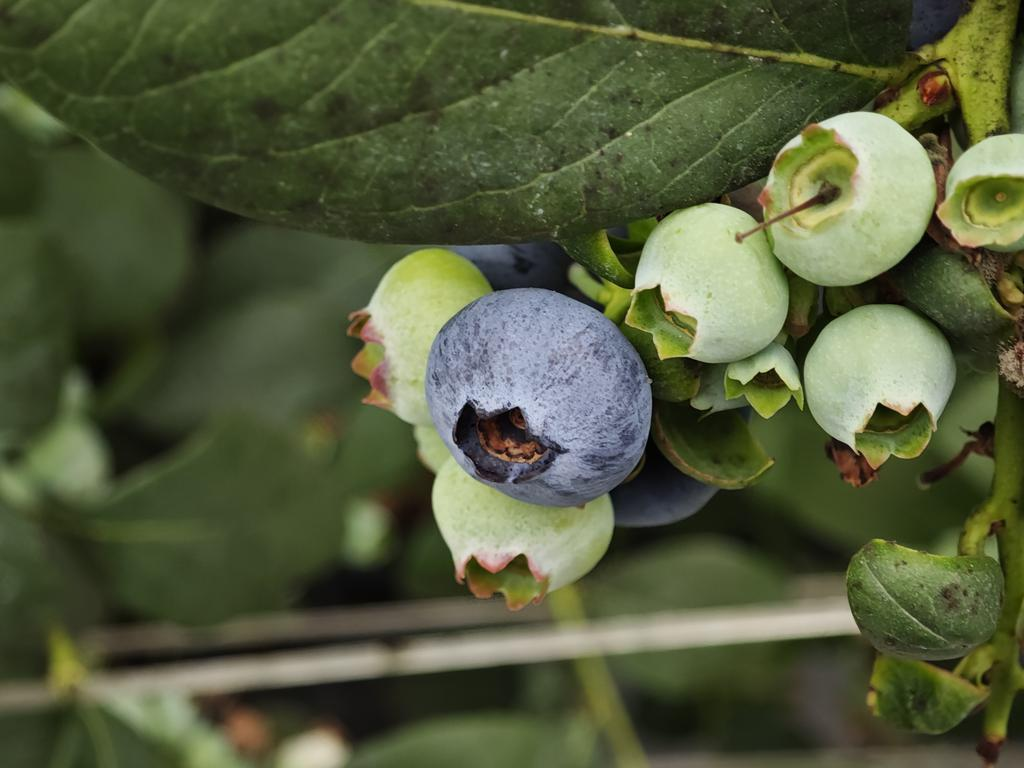RipeBlueBerry: (422, 284, 655, 510)
